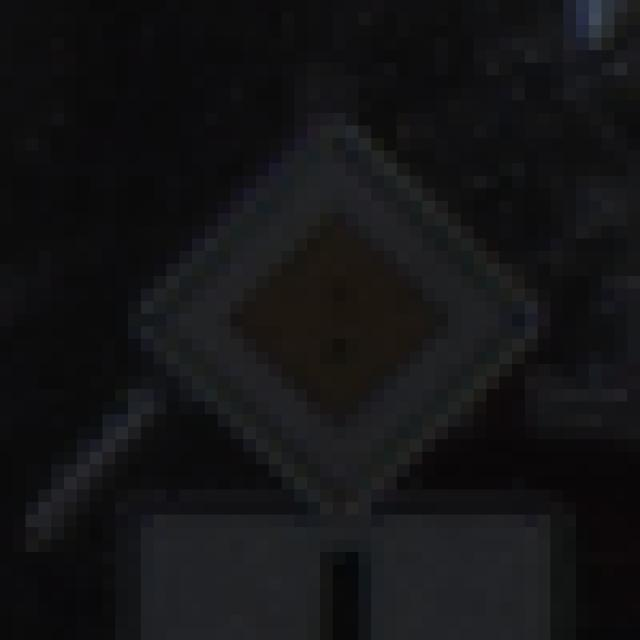Main Road: (65, 77, 577, 579)
